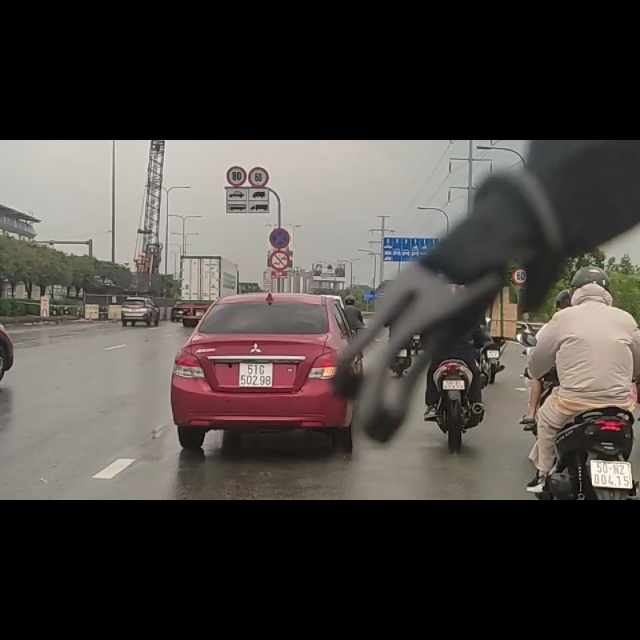bien_chi_dan: (268, 155, 291, 192), (248, 47, 269, 84), (226, 46, 247, 83)
